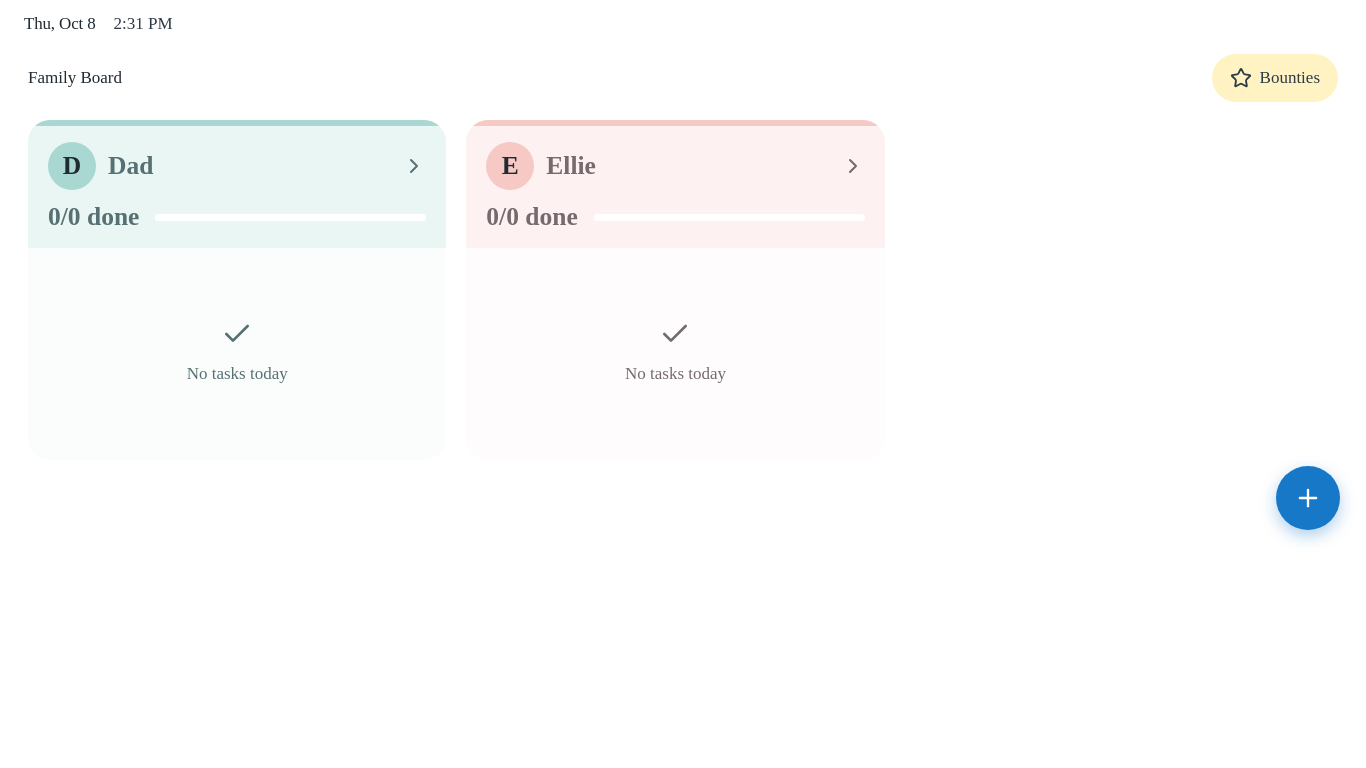
Test: TasksScreen › Bounties focus has an empty state before the first offering
Click the button "Bounties": {"x": 1275, "y": 78} [1212, 54, 1338, 102]
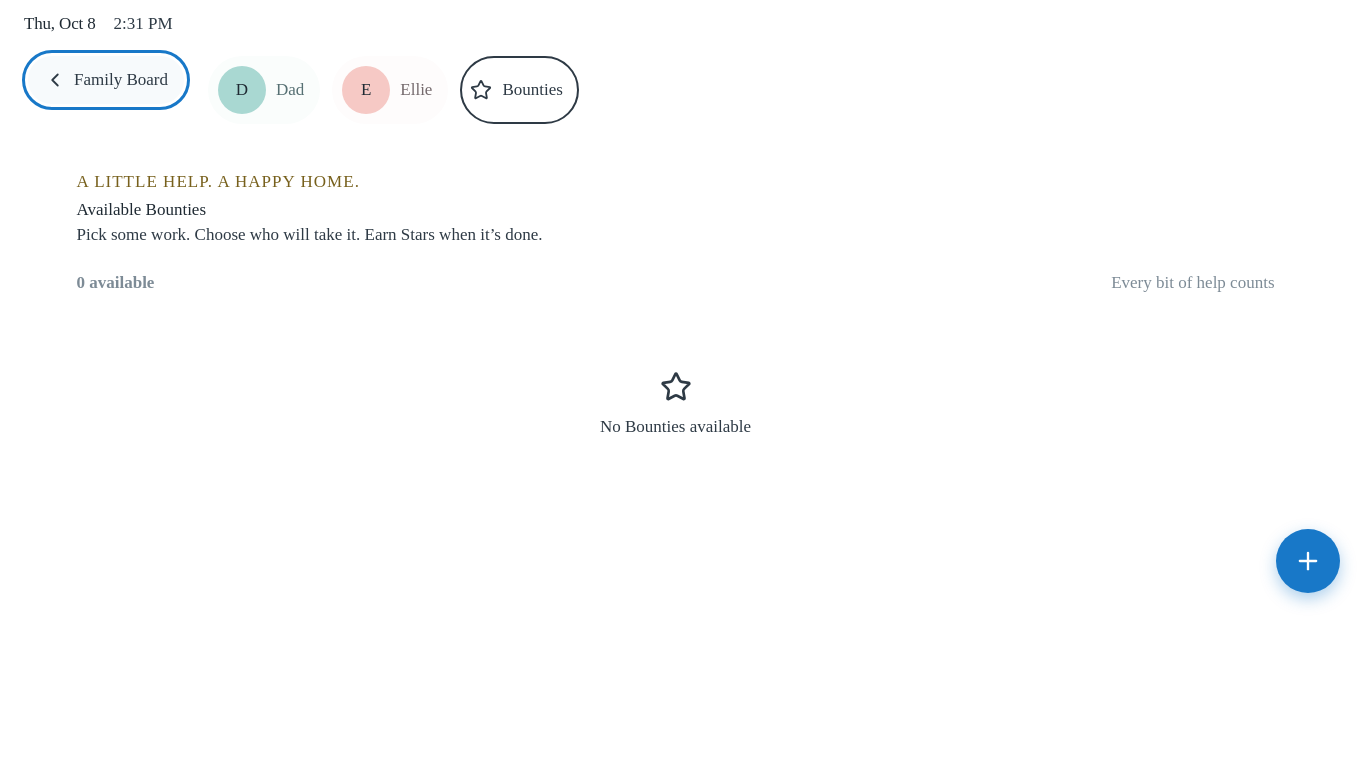
Now the text "No Bounties available" is shown, box [600, 417, 751, 437]
